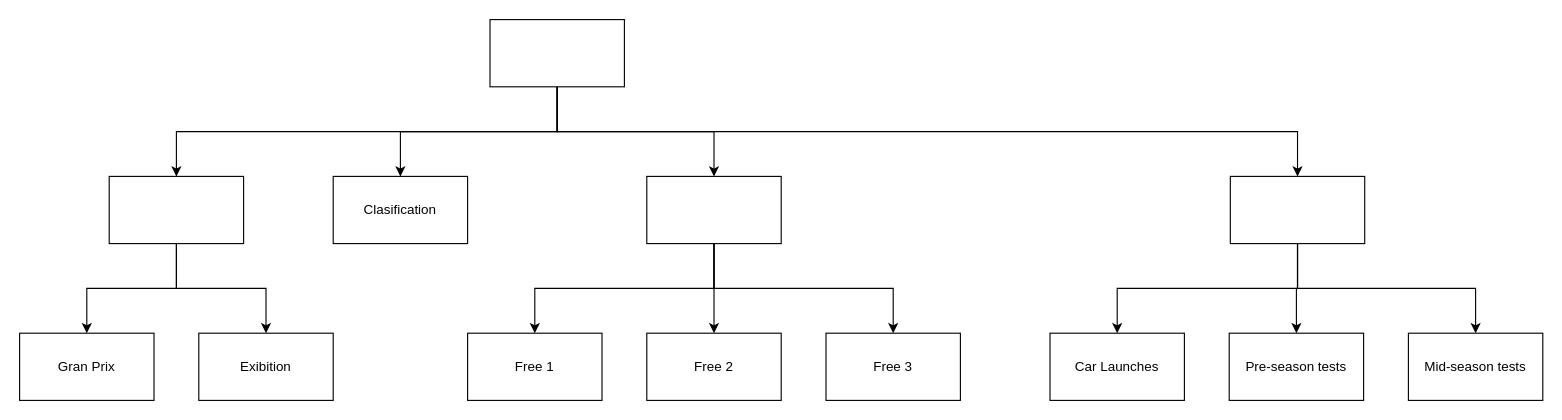
Image size: 1562x420. Some labels were removed from this diagram. The shapes that lost their labels are listed below. From the top down, each one's centre as x and y in pixels, then its label:
At point (556, 52): "Formula One Event".
At point (176, 209): "Race".
At point (713, 209): "Practice".
At point (1297, 209): "Special Events".
